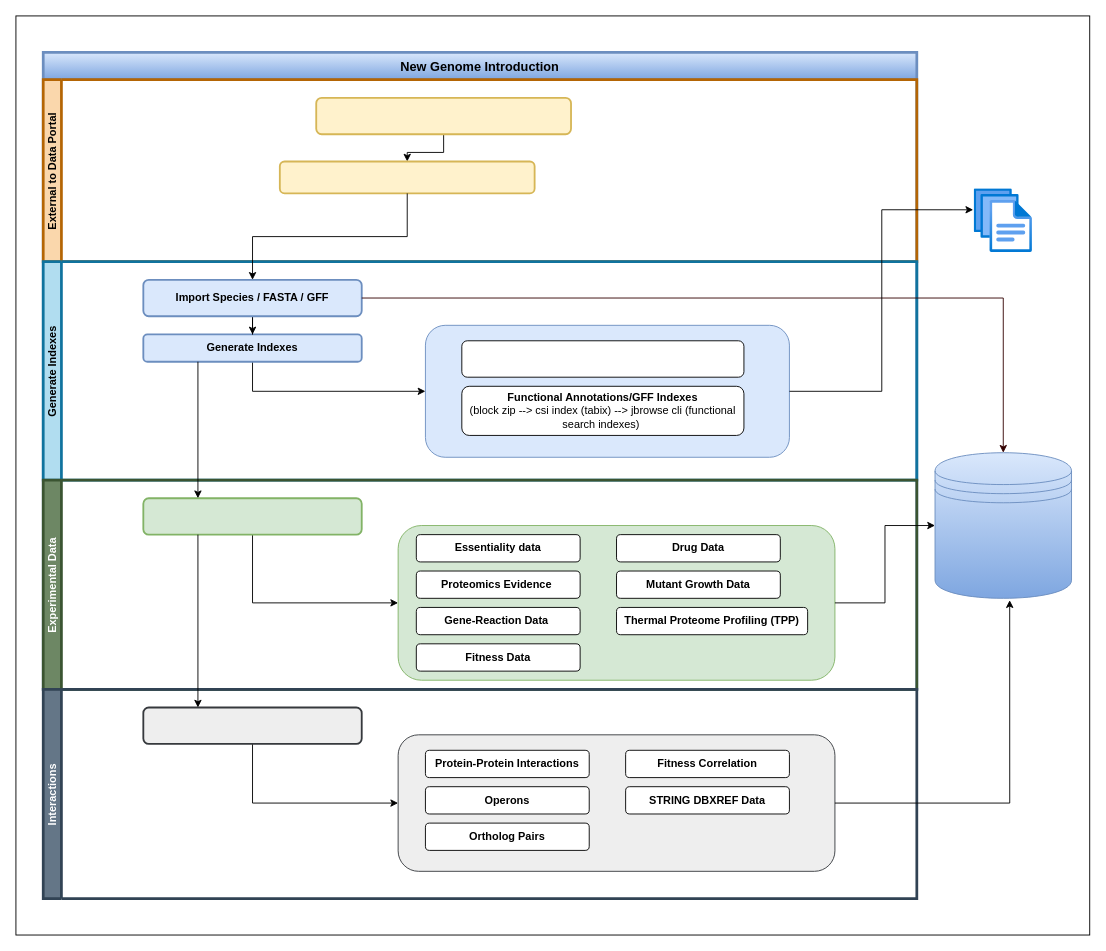
This 1106x951 diagram has some shape labels left out. The shapes that lost their labels are listed below. From the top down, each one's centre as x and y in pixels, then its label:
At pixel 443 115: "Genome submission / acquisition".
At pixel 406 177: "MetaAnnotator pipeline".
At pixel 1003 220: "FTP Server".
At pixel 602 358: "Assembly (Fasta) Indexes (block zip --> samtools to generate index)".
At pixel 252 516: "Experimental Data Import".
At pixel 1003 525: "METT Datastore (Elasticsearch)".
At pixel 252 725: "Integration/Network Data Import".
